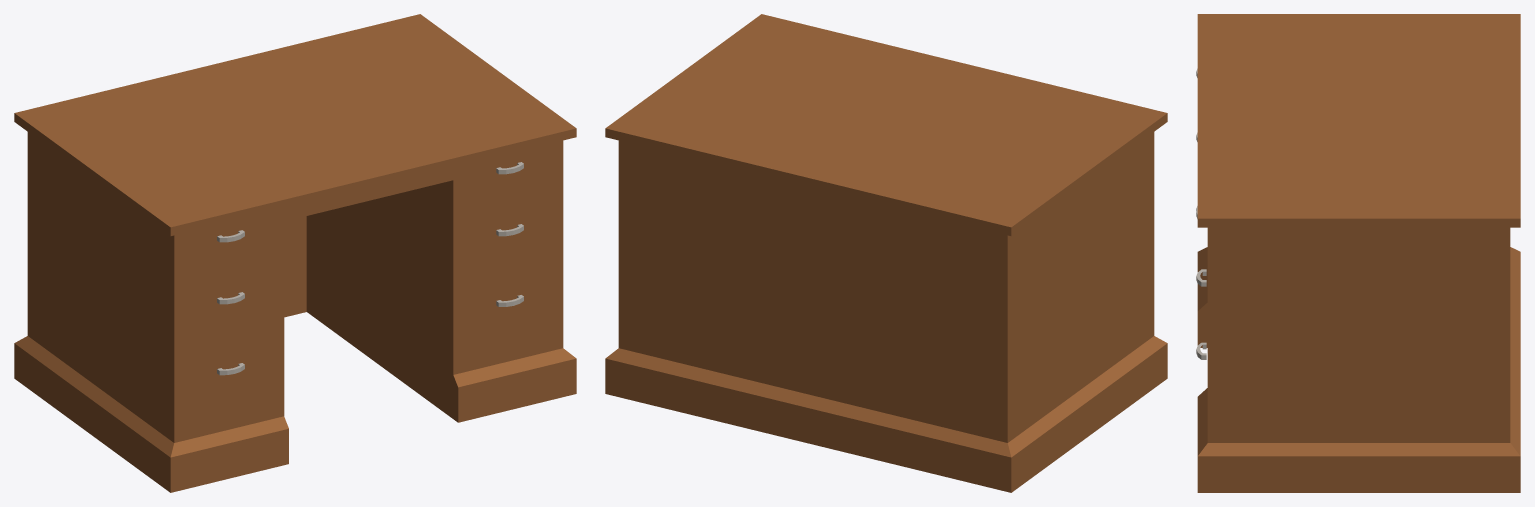
File: Desk.glb
3 renders of one model, left to right at view 1: azimuth 30°, elevation 25°; view 2: azimuth 150°, elevation 25°; view 3: azimuth 270°, elevation 25°, orthographic. The views are drawn at different scales.
Visible parts, largest first — view 1: Node; view 2: Node; view 3: Node.
Part boxes in pixels (bbox=[...]): Node: bbox=[14, 14, 576, 492]; Node: bbox=[605, 14, 1167, 492]; Node: bbox=[1196, 14, 1520, 492].
Size of the model in its own units: 48 by 30 by 32.12.
